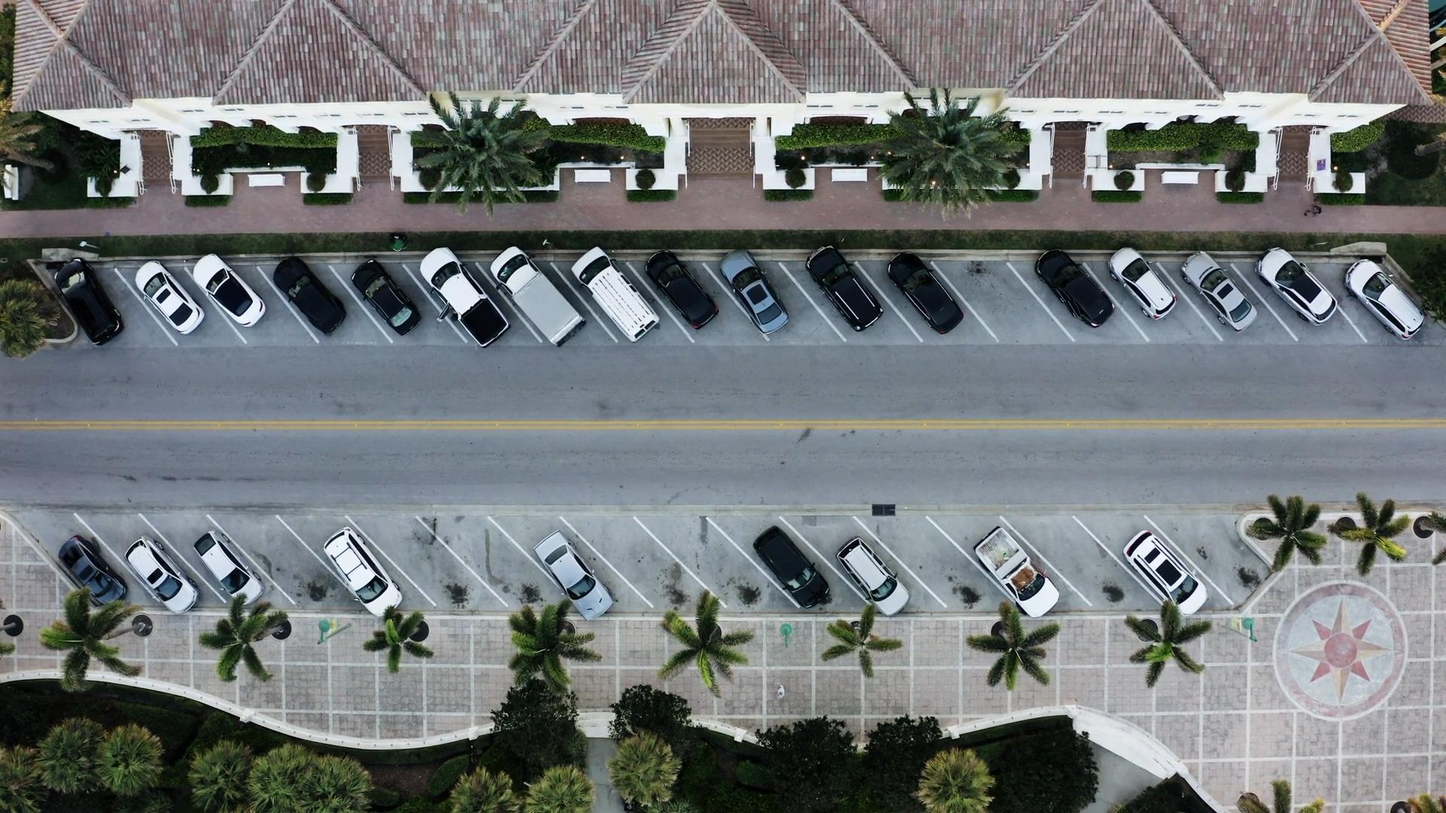free: (629, 517, 723, 602), (398, 527, 480, 615), (1048, 527, 1128, 617), (468, 533, 547, 619)
occupied: (323, 240, 797, 354), (1227, 502, 1446, 602), (128, 251, 272, 341), (1122, 530, 1208, 616), (1343, 260, 1429, 340), (1254, 245, 1339, 325), (804, 245, 881, 333), (50, 258, 124, 344), (1033, 250, 1110, 329), (1182, 252, 1258, 331), (887, 253, 960, 335), (123, 537, 199, 613), (349, 258, 422, 337), (850, 537, 920, 614), (57, 535, 128, 607), (791, 570, 830, 609)
